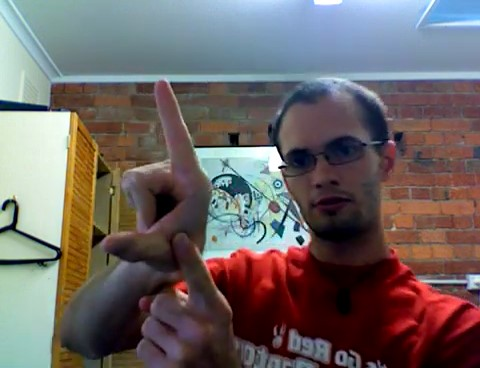Y: (93, 74, 239, 368)
